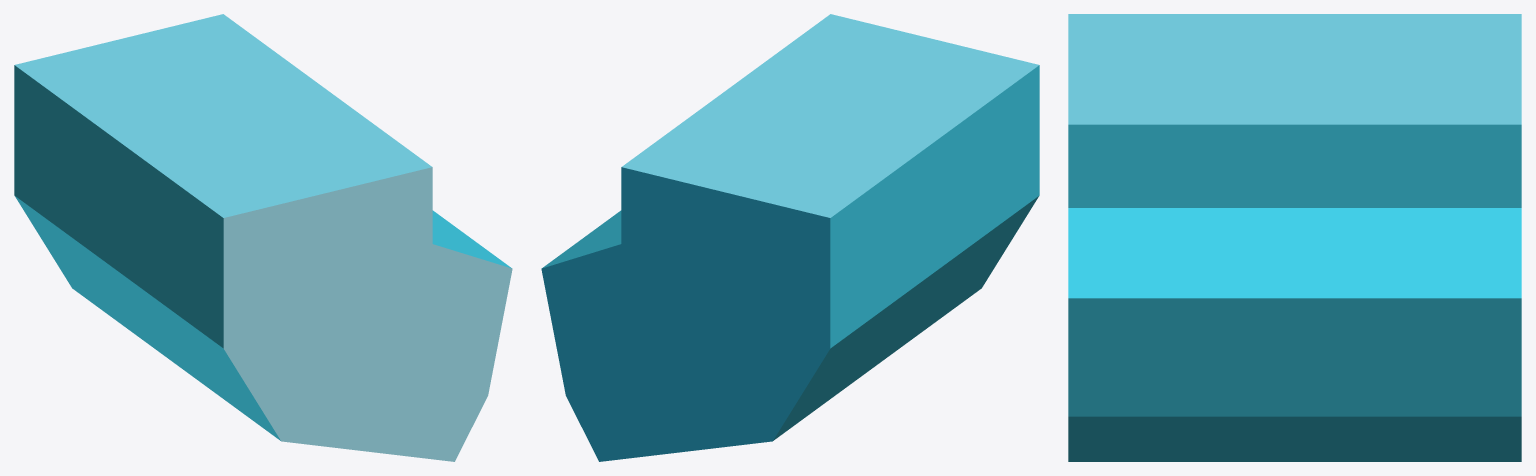
Rendered from D_FBX_07_DesT_Wall_03.fbx.
The picture shows the model from 3 angles, left to right: view 1: azimuth 30°, elevation 25°; view 2: azimuth 150°, elevation 25°; view 3: azimuth 270°, elevation 25°; orthographic projection. The views are drawn at different scales.
Parts seen in each view (by area): view 1: D_FBX_07_DesT_Wall_03; view 2: D_FBX_07_DesT_Wall_03; view 3: D_FBX_07_DesT_Wall_03.
Part boxes in pixels (x1,y1,x2,y2): D_FBX_07_DesT_Wall_03: (14,14,512,461); D_FBX_07_DesT_Wall_03: (541,14,1039,461); D_FBX_07_DesT_Wall_03: (1068,14,1521,461).
Bounding box in the file's own units: 89.76 × 89.1 × 112.
